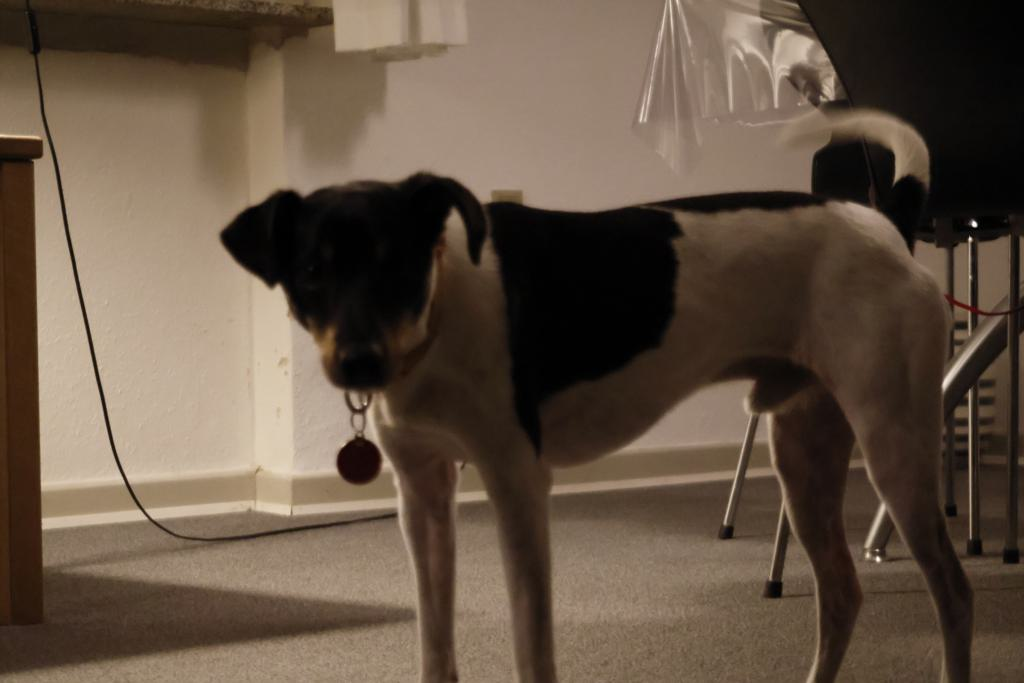Dog: (212, 97, 986, 683)
